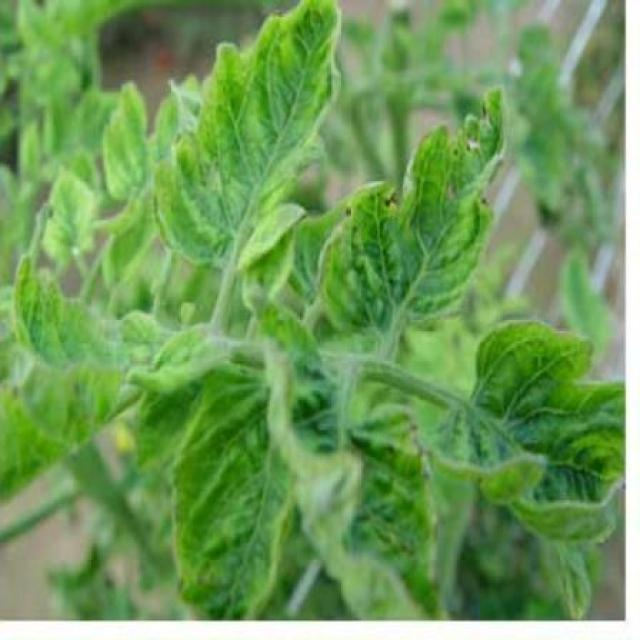Yellow Leaf Curl Virus: (127, 6, 353, 295), (423, 307, 628, 622), (308, 73, 509, 346), (169, 356, 307, 621)
